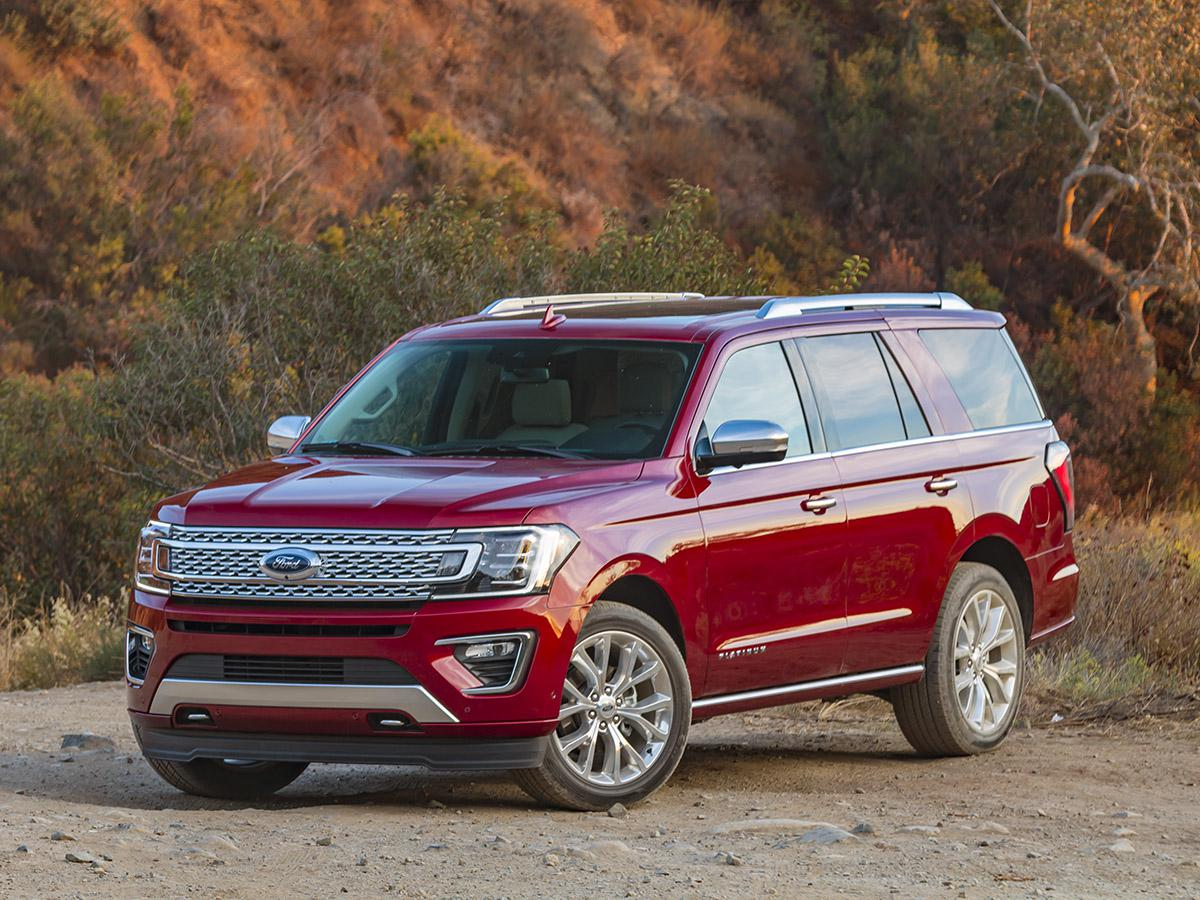car: (89, 257, 1154, 826)
